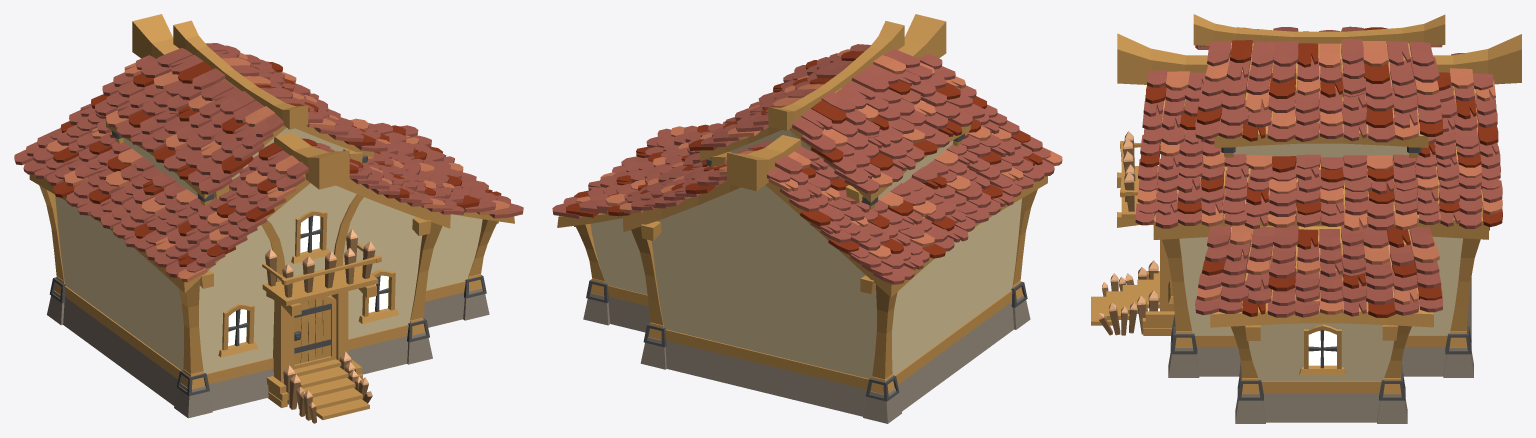
The model's file is Sketchfab_2023_03_05_21_46_45.fbx.
The picture shows the model from 3 angles, left to right: view 1: azimuth 30°, elevation 25°; view 2: azimuth 150°, elevation 25°; view 3: azimuth 270°, elevation 25°; orthographic projection. The views are drawn at different scales.
Parts seen in each view (by area): view 1: Plane.088; view 2: Plane.088; view 3: Plane.088.
Part boxes in pixels (x1,y1,x2,y2): Plane.088: (14,14,523,423); Plane.088: (552,14,1062,423); Plane.088: (1091,14,1521,423).
Size of the model in its own units: 3050 by 2169 by 2794.
